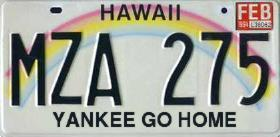placa de veiculo: (8, 0, 270, 132)
